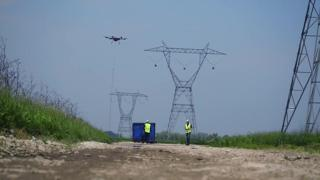UAV: (103, 36, 129, 45)
